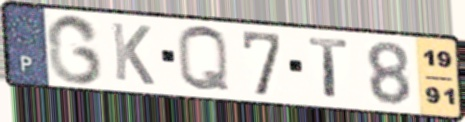7: (240, 28, 283, 97)
8: (363, 40, 414, 108)
G: (44, 12, 105, 87)
K: (109, 20, 157, 88)
Q: (174, 23, 234, 95)
T: (306, 35, 351, 102)
